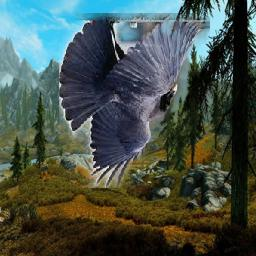Crow: (60, 14, 211, 189)
